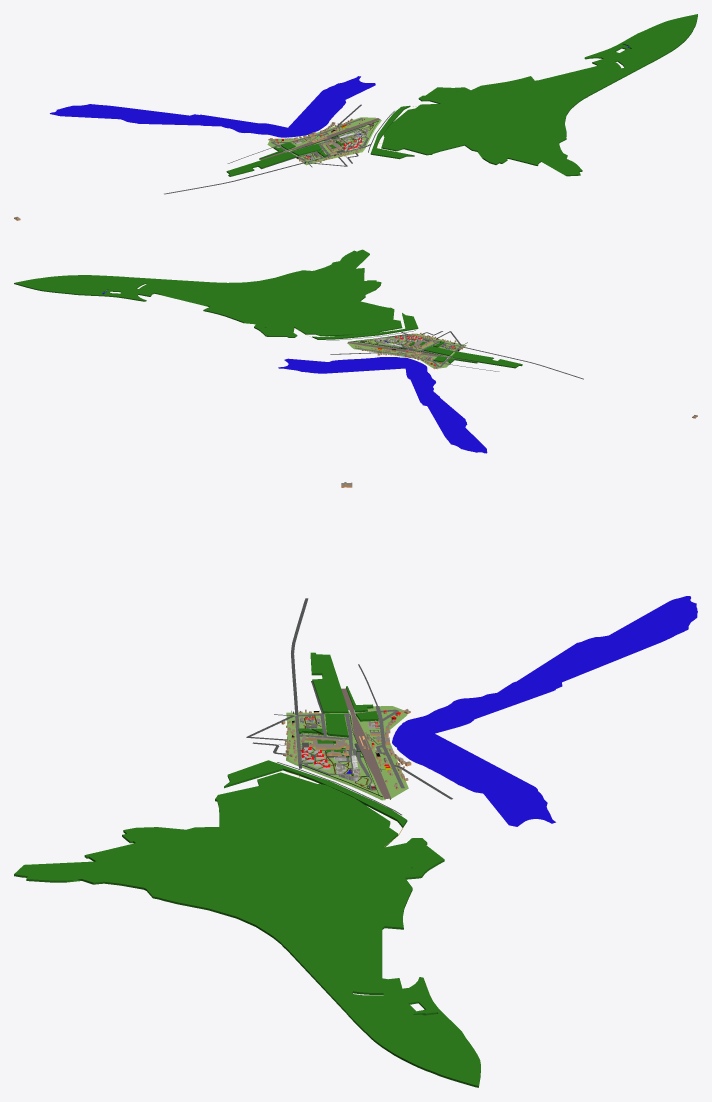
Rendered from Map.fbx.
The picture shows the model from 3 angles, top to bottom: view 1: azimuth 30°, elevation 25°; view 2: azimuth 150°, elevation 25°; view 3: azimuth 270°, elevation 25°; orthographic projection. The views are drawn at different scales.
Parts seen in each view (by area): view 1: map.osm_forest, map.osm_water, map.osm_buildings, Campus1Floor, Campus3Floor, map.osm_roads_residential, Plane; view 2: map.osm_forest, map.osm_water, map.osm_buildings, Campus3Floor, Campus1Floor, map.osm_roads_residential; view 3: map.osm_forest, map.osm_water, map.osm_buildings, Campus1Floor, Campus3Floor, map.osm_roads_residential, Plane.
Boxes of the visible parts, left/top/right/bottom form: map.osm_forest: left=226, top=14, right=697, bottom=176; map.osm_water: left=50, top=45, right=629, bottom=137; map.osm_buildings: left=268, top=118, right=365, bottom=163; Campus1Floor: left=311, top=119, right=381, bottom=158; Campus3Floor: left=267, top=117, right=377, bottom=149; map.osm_roads_residential: left=164, top=104, right=370, bottom=194; Plane: left=260, top=118, right=380, bottom=159; map.osm_forest: left=14, top=249, right=522, bottom=368; map.osm_water: left=103, top=290, right=487, bottom=453; map.osm_buildings: left=355, top=333, right=465, bottom=369; Campus3Floor: left=347, top=343, right=450, bottom=368; Campus1Floor: left=349, top=333, right=444, bottom=352; map.osm_roads_residential: left=330, top=331, right=583, bottom=379; map.osm_forest: left=14, top=652, right=480, bottom=1087; map.osm_water: left=346, top=596, right=697, bottom=826; map.osm_buildings: left=281, top=709, right=411, bottom=789; Campus1Floor: left=286, top=732, right=385, bottom=800; Campus3Floor: left=355, top=706, right=408, bottom=799; map.osm_roads_residential: left=246, top=598, right=452, bottom=799; Plane: left=341, top=688, right=390, bottom=798.
Bounding box in the file's own units: 663597 × 2736 × 317356.
